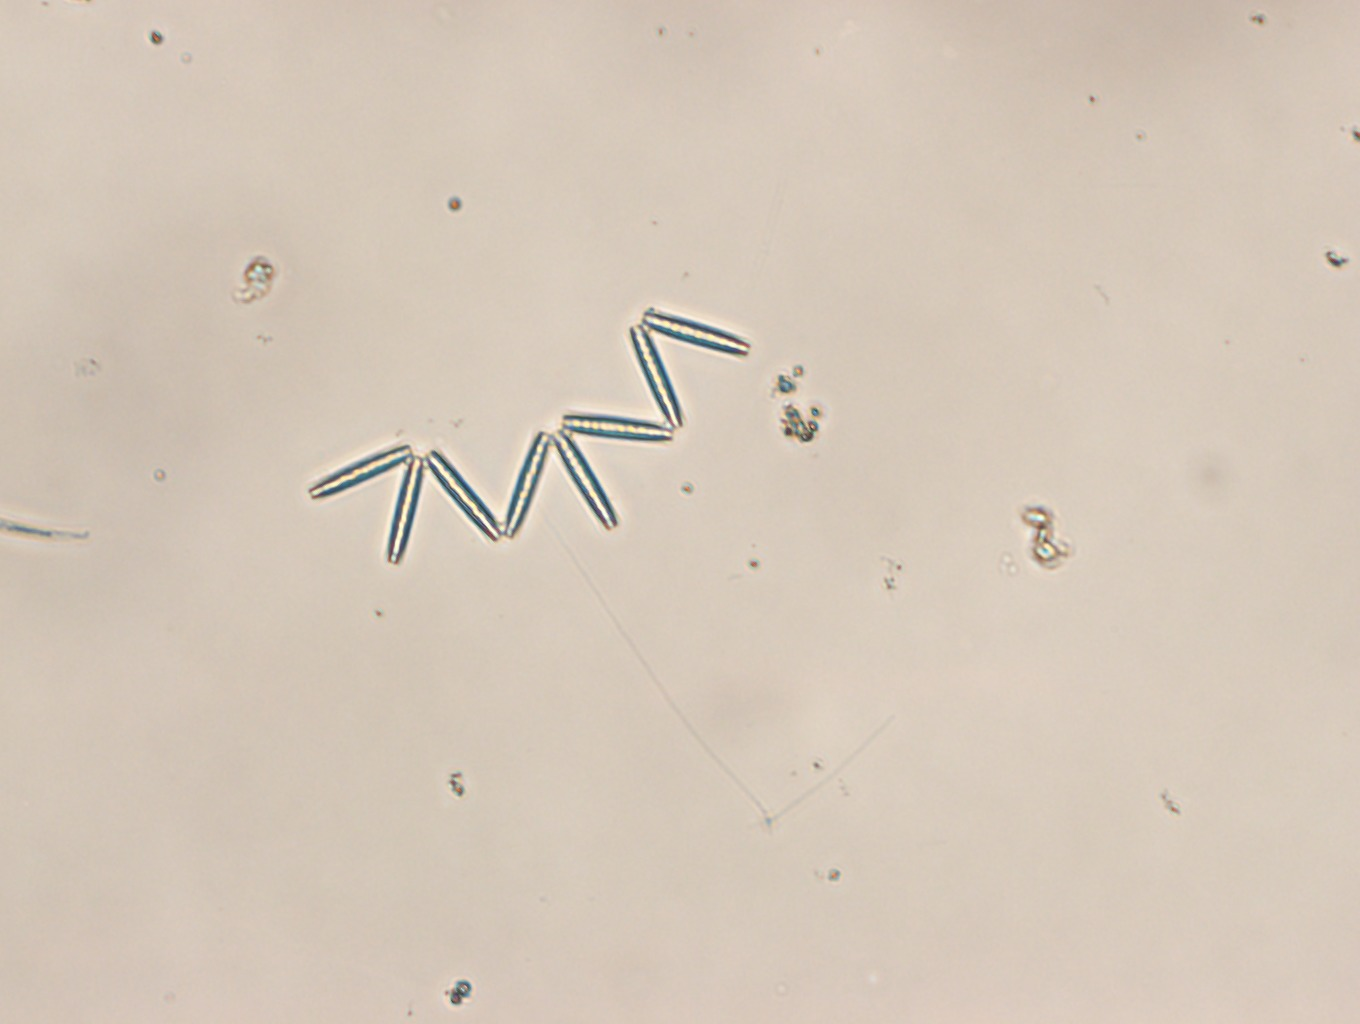thalassionema nitzschioides: (306, 309, 750, 565)
